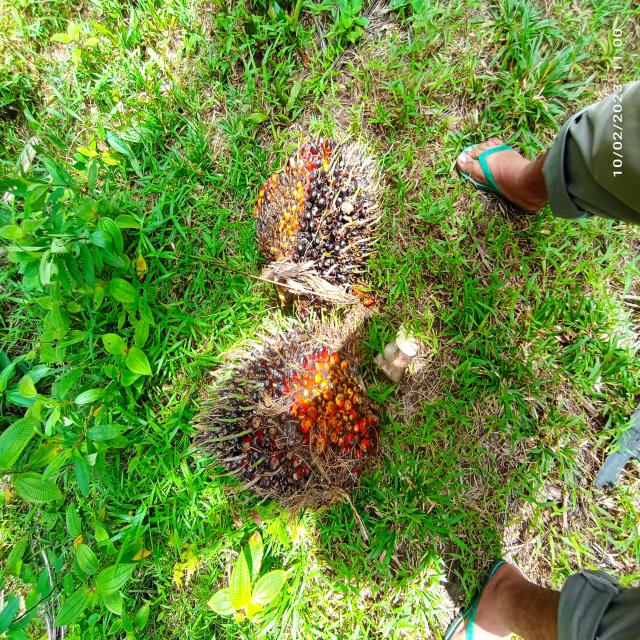fraksi 00: (243, 136, 407, 310)
fraksi 1: (179, 312, 394, 508)
